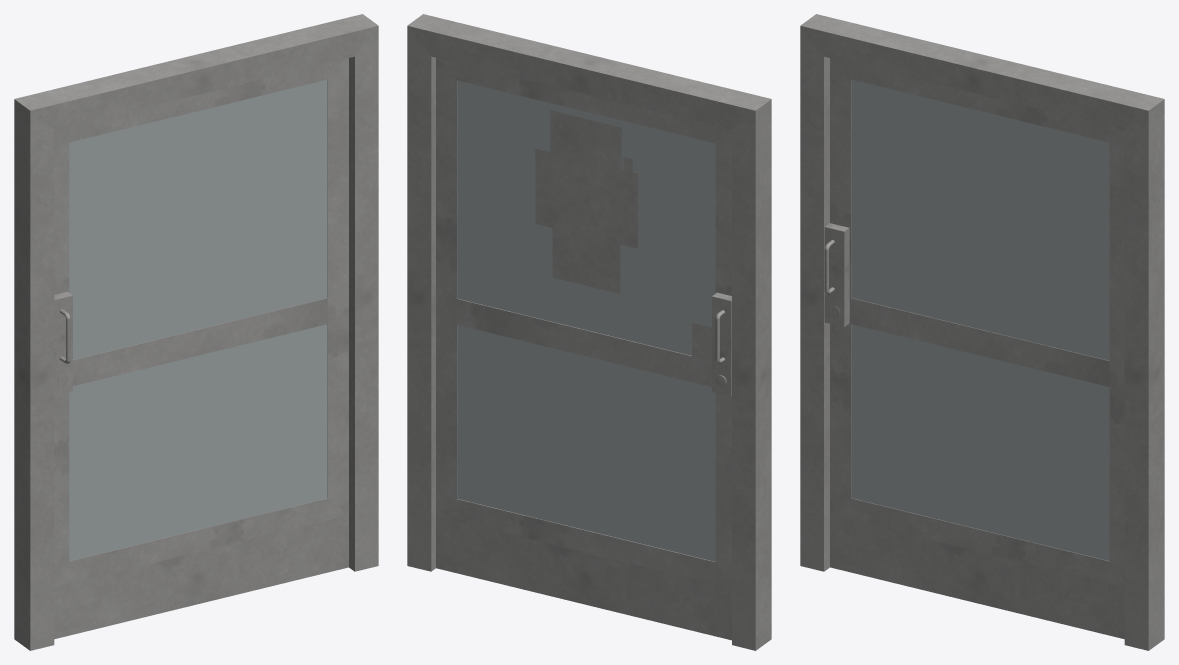
File: Ster case door 1.fbx
3 views of the same model, side by side, from view 1: azimuth 30°, elevation 25°; view 2: azimuth 150°, elevation 25°; view 3: azimuth 330°, elevation 25° (orthographic).
Visible parts, largest first — view 1: door002_glass1, door002_metal_frame2, door002_black_frame, door002_handel; view 2: door002_glass2, door002_metal_frame2, door002_black_frame, door002_stiker1, door002_handel, door002_stiker; view 3: door002_glass1, door002_metal_frame2, door002_black_frame, door002_handel.
Part boxes in pixels (x1,y1,x2,y2): door002_glass1: (69, 79, 327, 560); door002_metal_frame2: (14, 14, 378, 650); door002_black_frame: (54, 58, 348, 586); door002_handel: (54, 291, 72, 395); door002_glass2: (457, 80, 715, 561); door002_metal_frame2: (407, 14, 771, 650); door002_black_frame: (436, 58, 731, 588); door002_stiker1: (535, 110, 637, 293); door002_handel: (712, 292, 731, 396); door002_stiker: (692, 323, 711, 361); door002_glass1: (851, 79, 1109, 560); door002_metal_frame2: (800, 14, 1164, 650); door002_black_frame: (830, 58, 1124, 586); door002_handel: (824, 223, 849, 326).
Size of the model in its own units: 132 by 196 by 19.46.
